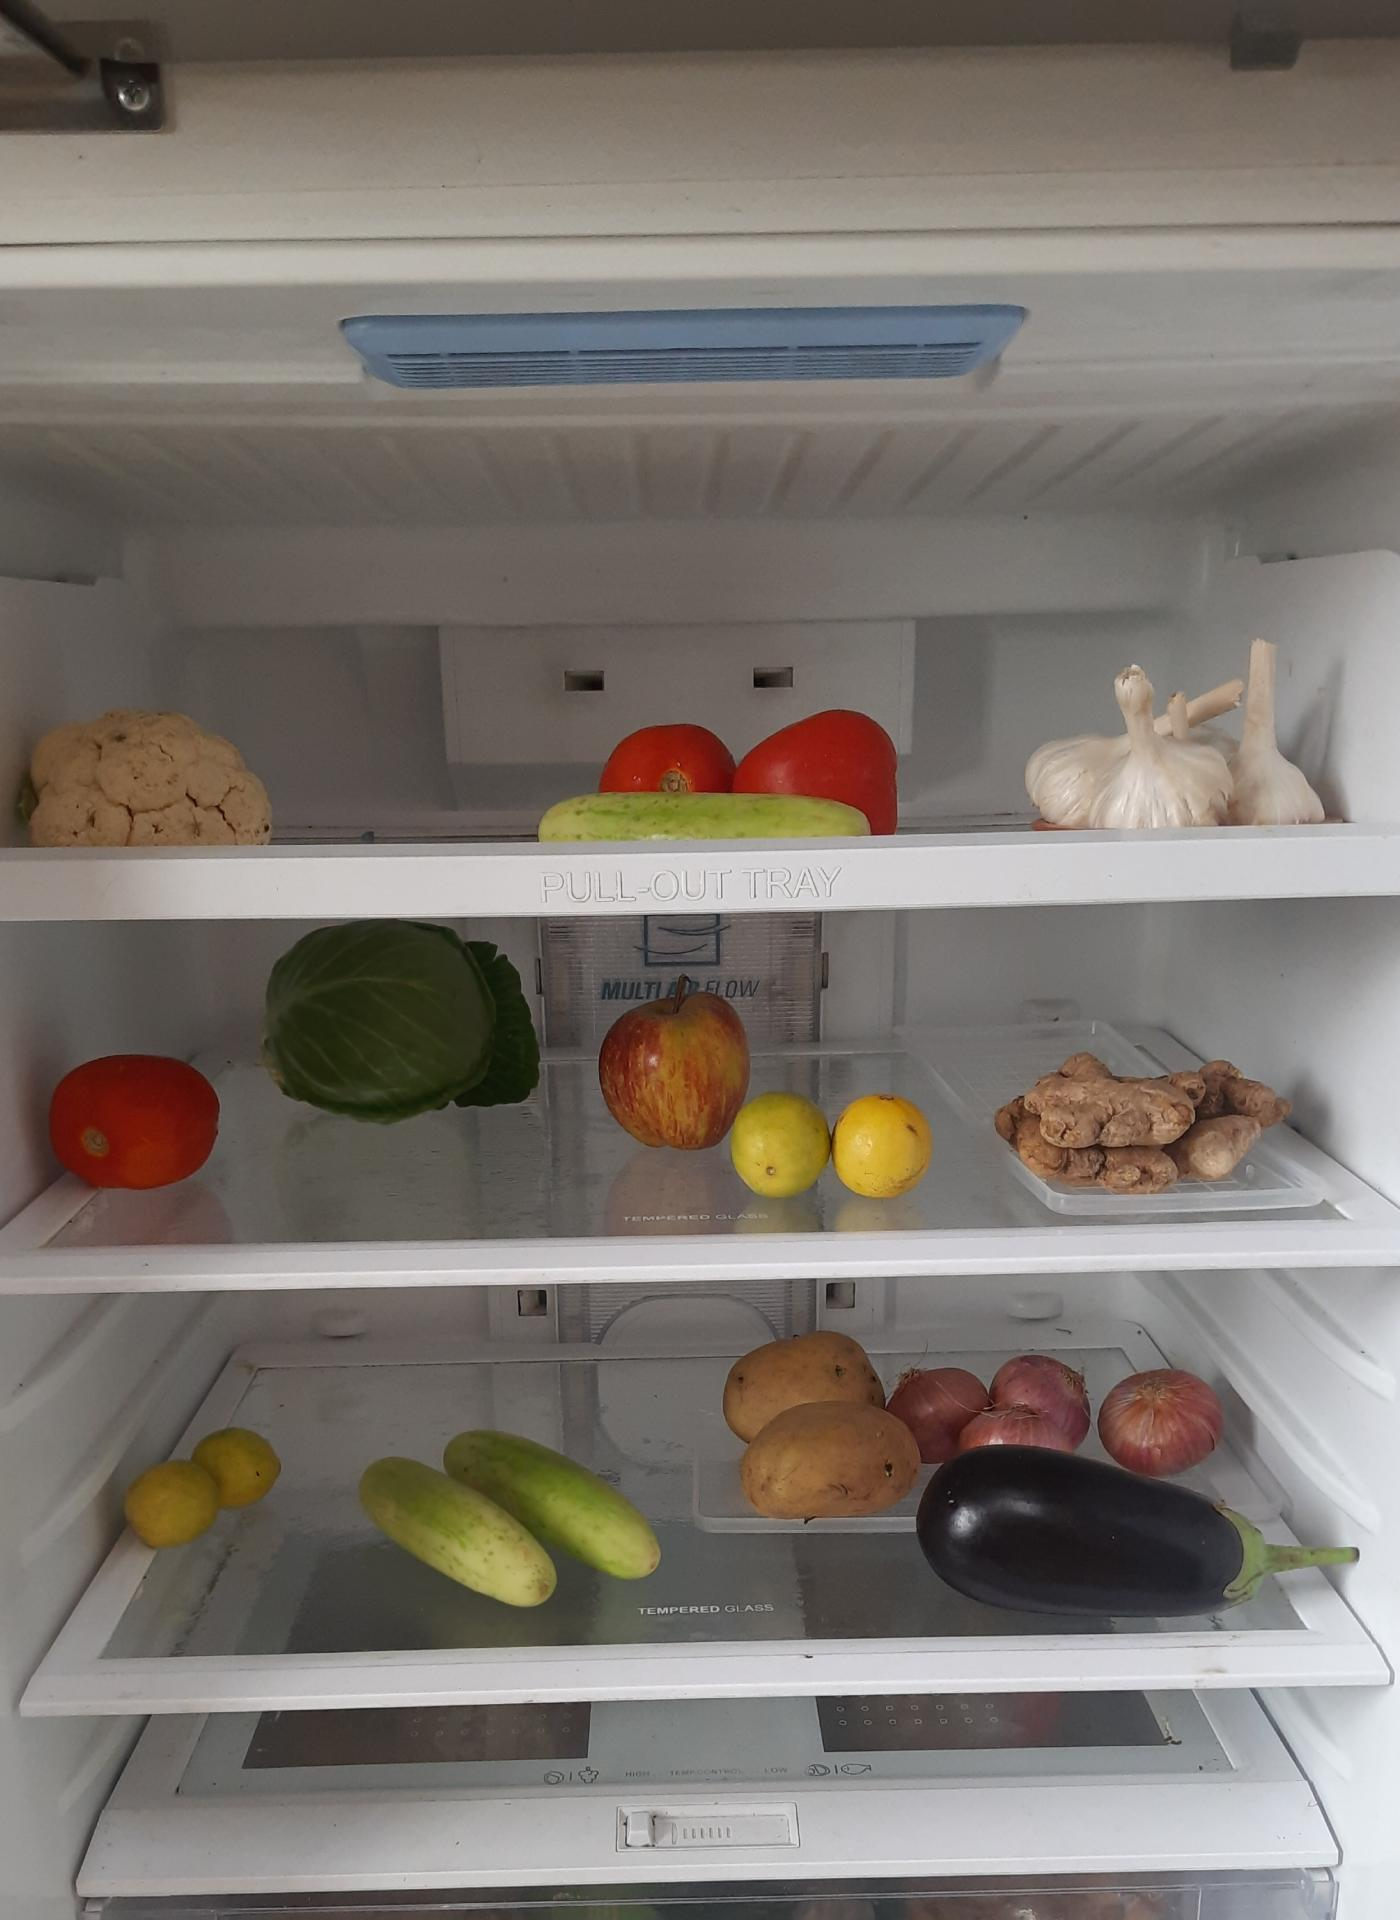apple: (595, 984, 744, 1152)
brinjal: (912, 1443, 1266, 1598)
cabbage: (256, 927, 538, 1125)
cauliflower: (16, 708, 283, 854)
cucumber: (353, 1425, 659, 1613), (534, 783, 880, 848)
garlic: (1053, 641, 1343, 835)
ginger: (1002, 1064, 1291, 1204)
lemon: (734, 1085, 933, 1204), (124, 1421, 288, 1553)
onion: (895, 1351, 1235, 1476)
potato: (725, 1321, 920, 1515)
tomato: (586, 707, 901, 830), (43, 1045, 215, 1193)
